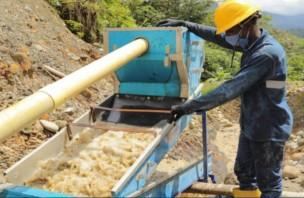Person: (154, 1, 293, 198)
ProcessingEquiment: (1, 22, 213, 198)
